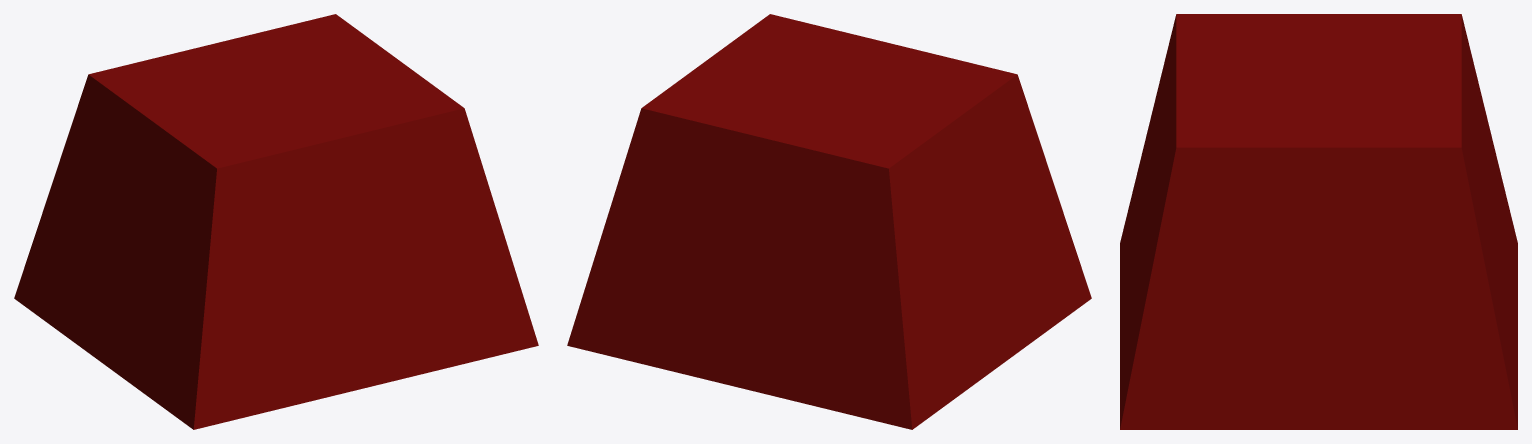
File: cassette-button.fbx
The picture shows the model from 3 angles, left to right: view 1: azimuth 30°, elevation 25°; view 2: azimuth 150°, elevation 25°; view 3: azimuth 270°, elevation 25°; orthographic projection. The views are drawn at different scales.
Parts seen in each view (by area): view 1: cassette-button; view 2: cassette-button; view 3: cassette-button.
Part boxes in pixels (bbox=[...]): cassette-button: bbox=[14, 14, 538, 429]; cassette-button: bbox=[567, 14, 1091, 429]; cassette-button: bbox=[1120, 14, 1517, 429].
Bounding box in the file's own units: 46.15 × 29.49 × 41.59.
